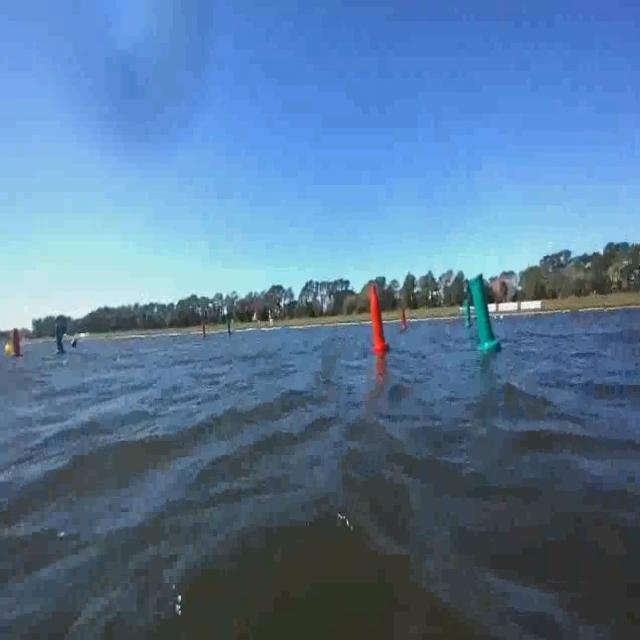green-column-buoy: (471, 273, 504, 354), (463, 301, 472, 329), (226, 321, 232, 338)
red-column-buoy: (368, 282, 390, 354), (12, 324, 22, 363), (400, 308, 408, 330), (202, 321, 208, 338)
yellow-buoy: (5, 342, 14, 358)
